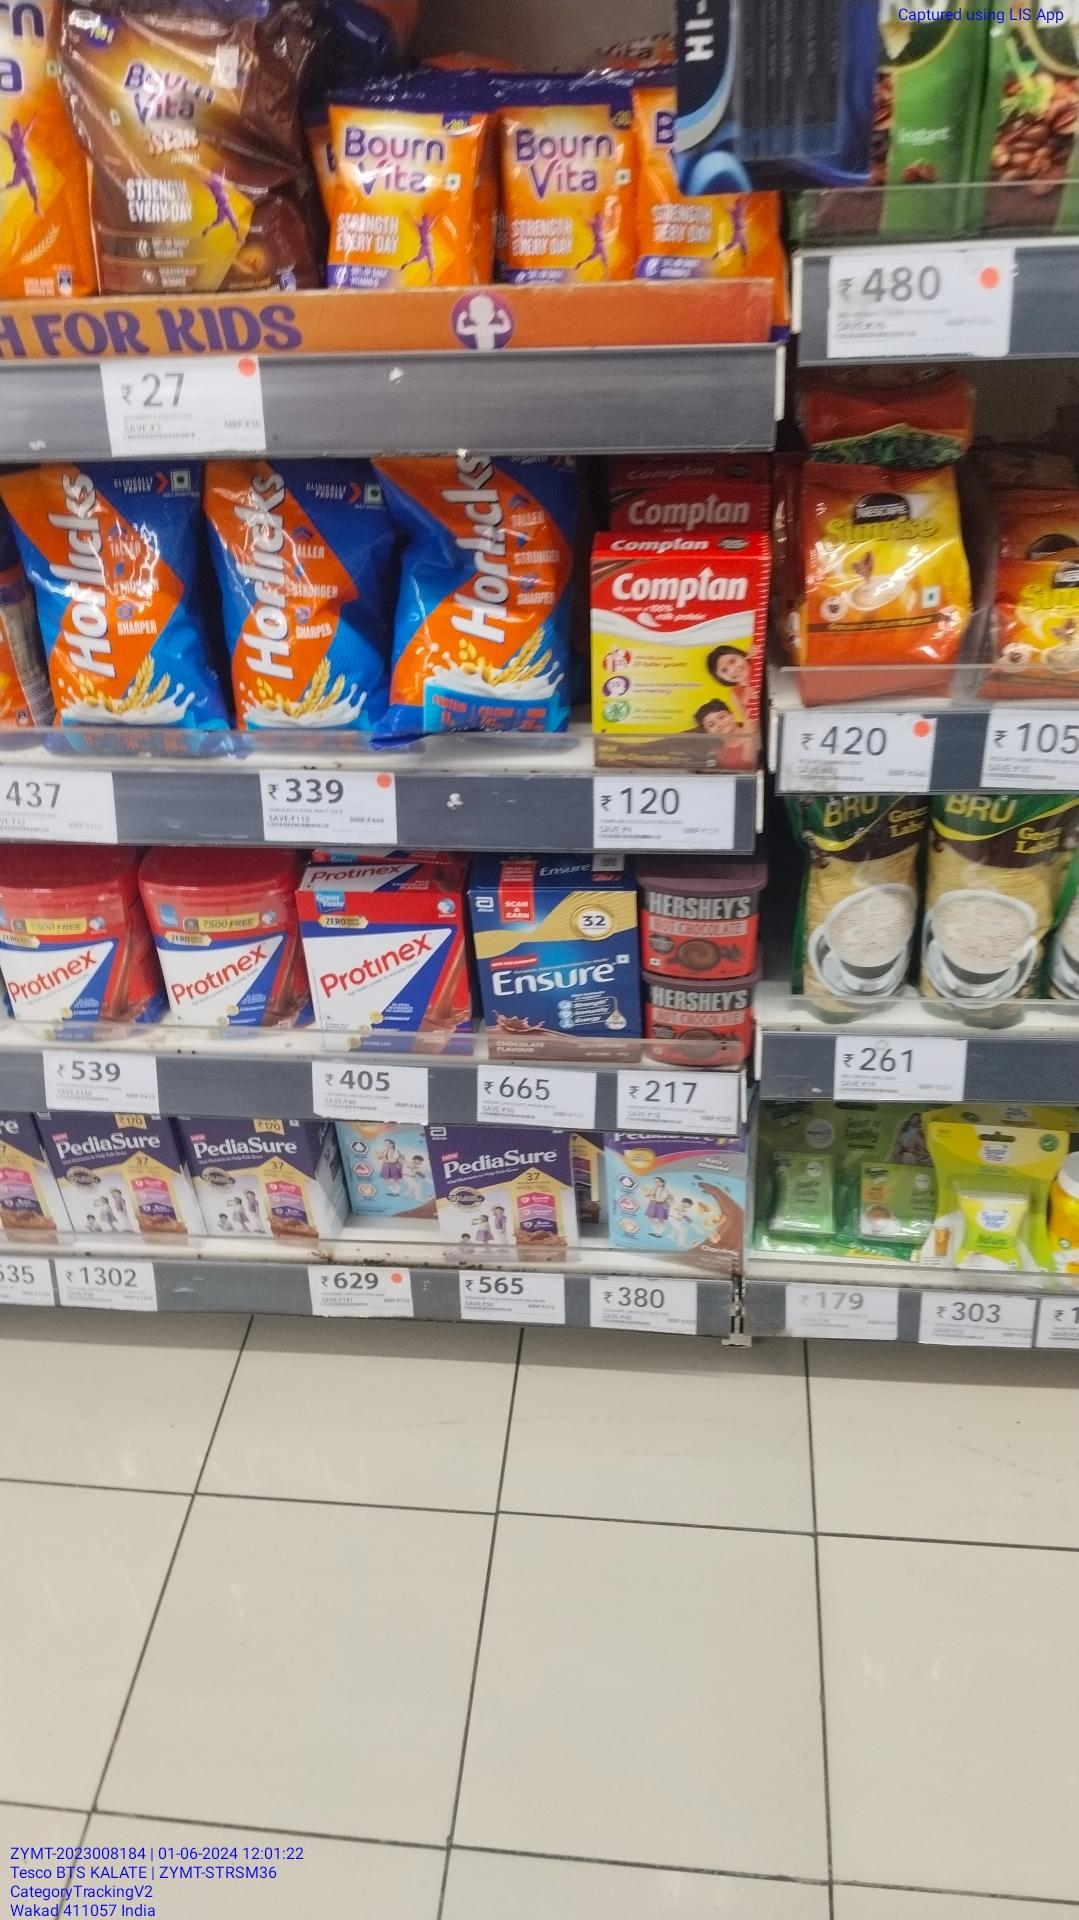ENSURE_VANILLA_400_G_PACK: (478, 887, 641, 1062)
PEDIASURE_7_PLUS_CHOCOLATE_400_G_PACK: (605, 1130, 743, 1273)
PROTINEX_CHOCOLATE_400_G_JAR: (3, 845, 145, 1034), (154, 852, 293, 1025)
